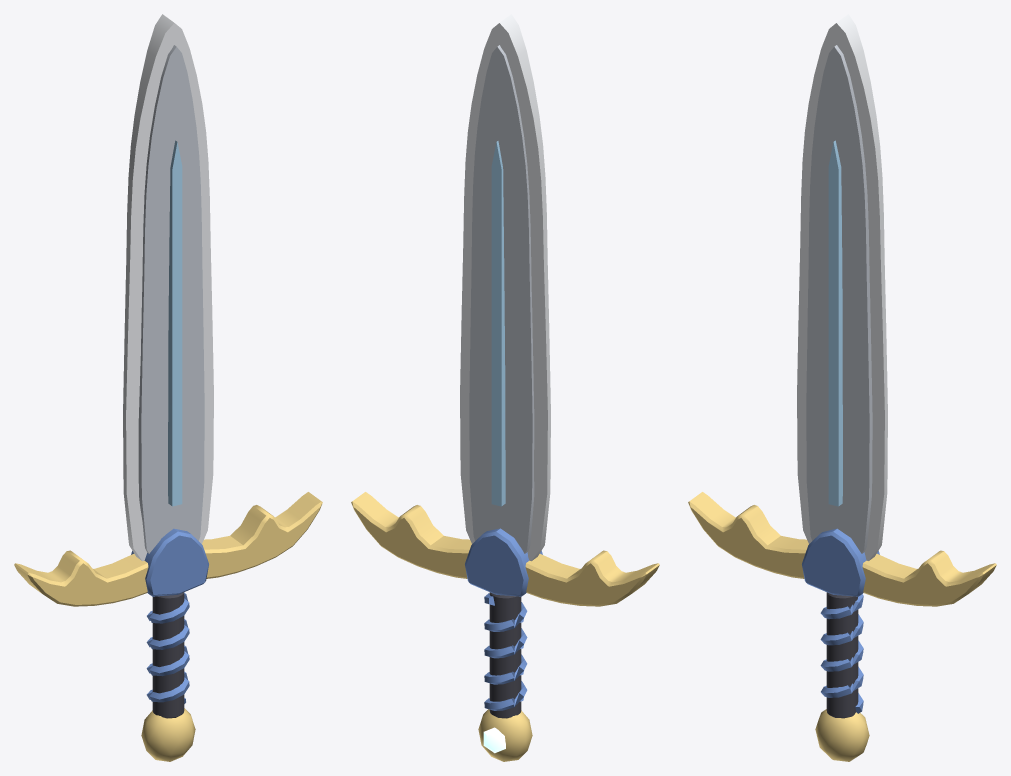
File: gen_guard_sword.fbx
The picture shows the model from 3 angles, left to right: view 1: azimuth 30°, elevation 25°; view 2: azimuth 150°, elevation 25°; view 3: azimuth 330°, elevation 25°; orthographic projection.
Parts seen in each view (by area): view 1: guard_sword; view 2: guard_sword; view 3: guard_sword.
Boxes of the visible parts, x1,y1,x2,y2 form: guard_sword: (14, 14, 322, 761); guard_sword: (351, 14, 659, 761); guard_sword: (688, 14, 996, 761).
Size of the model in its own units: 0.4766 by 1.14 by 0.0722.
